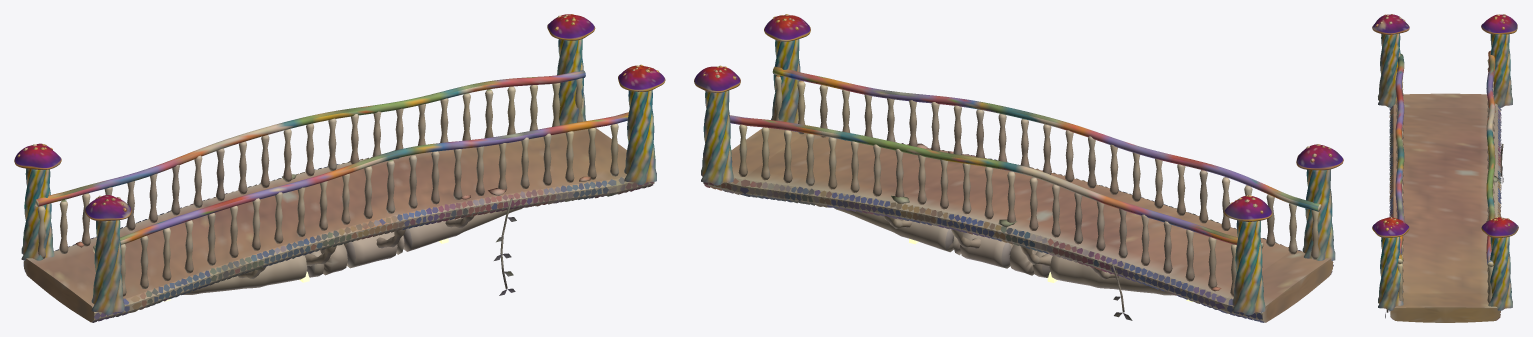
File: kopru_gecit_12.glb
The picture shows the model from 3 angles, left to right: view 1: azimuth 30°, elevation 25°; view 2: azimuth 150°, elevation 25°; view 3: azimuth 270°, elevation 25°; orthographic projection. The views are drawn at different scales.
Parts seen in each view (by area): view 1: kopru_gecit_12_LOD0; view 2: kopru_gecit_12_LOD0; view 3: kopru_gecit_12_LOD0.
Part boxes in pixels (<box>): kopru_gecit_12_LOD0: <box>14,14,665,322</box>; kopru_gecit_12_LOD0: <box>694,14,1343,322</box>; kopru_gecit_12_LOD0: <box>1372,14,1518,322</box>.
Size of what is drawn, in the model's own units: 12.32 by 3.91 by 3.49.
